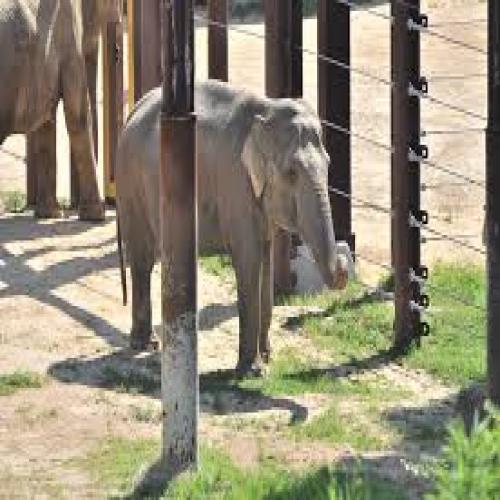asian_elephant-endangered: (113, 82, 348, 376), (0, 0, 120, 217)
